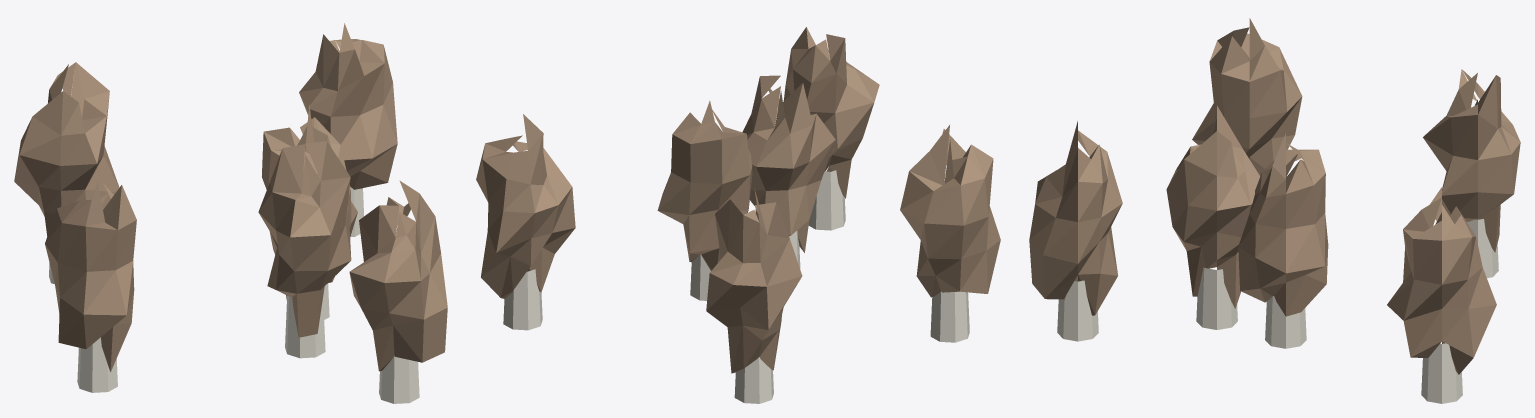
The model's file is temperate-forest-ecology-morel-group-4c76c338__3867.glb.
3 views of the same model, side by side, from view 1: azimuth 30°, elevation 25°; view 2: azimuth 150°, elevation 25°; view 3: azimuth 270°, elevation 25° (orthographic). The views are drawn at different scales.
Parts seen in each view (by area): view 1: morel-group; view 2: morel-group; view 3: morel-group.
Part boxes in pixels (x1,y1,x2,y2): morel-group: (14,23,447,403); morel-group: (476,27,1000,403); morel-group: (1029,18,1520,403).
Size of the model in its own units: 0.38 by 0.1824 by 0.3778.
